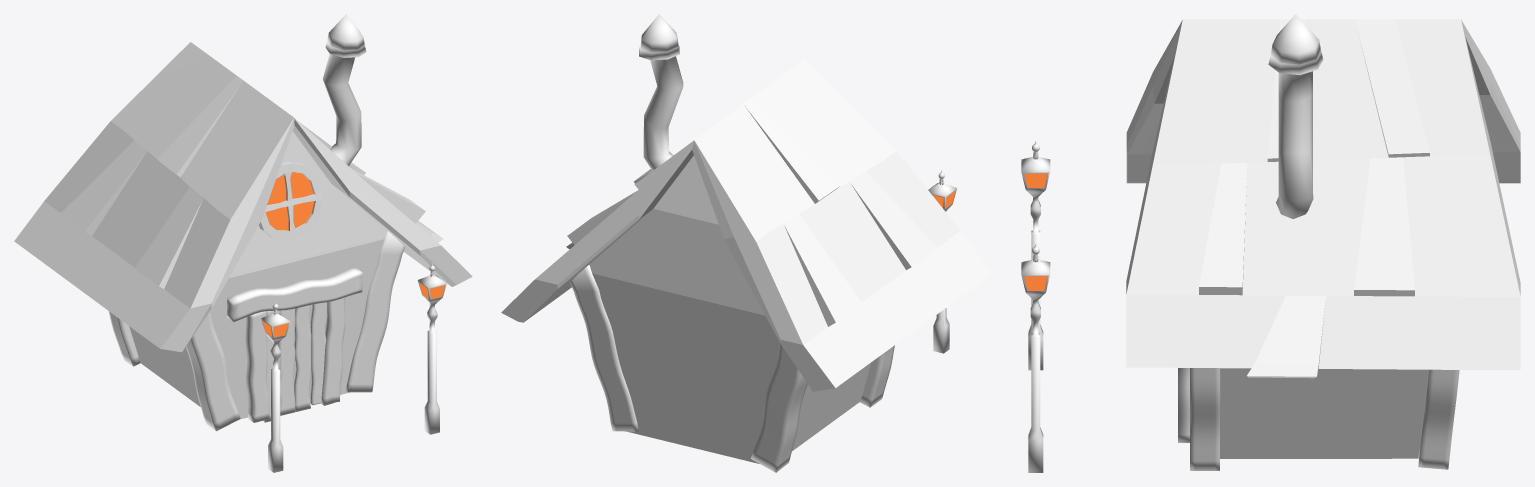
Rendered from house_fully_texturized.glb.
The picture shows the model from 3 angles, left to right: view 1: azimuth 30°, elevation 25°; view 2: azimuth 150°, elevation 25°; view 3: azimuth 270°, elevation 25°; orthographic projection. The views are drawn at different scales.
Visible parts, largest first — view 1: House log 4; view 2: House log 4; view 3: House log 4.
Boxes of the visible parts, x1=… form: House log 4: x1=14, y1=14, x2=472, y2=472; House log 4: x1=501, y1=14, x2=992, y2=472; House log 4: x1=1021, y1=14, x2=1520, y2=472.
Bounding box in the file's own units: 29.25 × 29.73 × 28.68.
